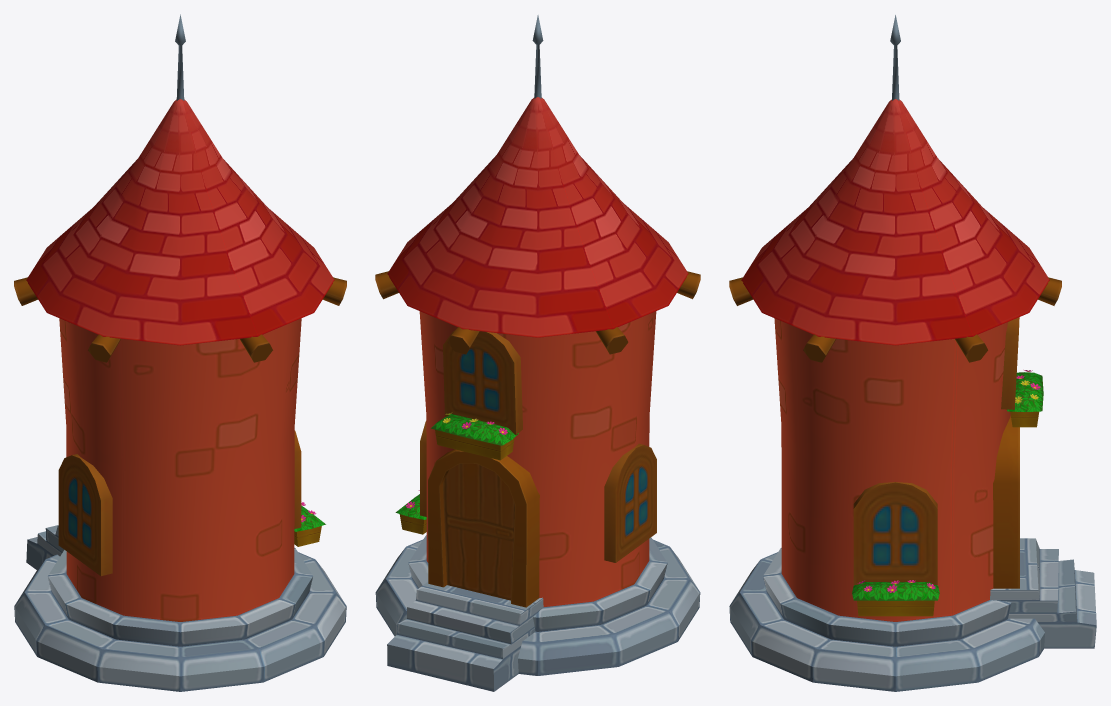
Rendered from HOS0110027.fbx.
3 views of the same model, side by side, from view 1: azimuth 30°, elevation 25°; view 2: azimuth 150°, elevation 25°; view 3: azimuth 270°, elevation 25° (orthographic). The views are drawn at different scales.
Visible parts, largest first — view 1: smHOS0110027; view 2: smHOS0110027; view 3: smHOS0110027.
Boxes of the visible parts, x1,y1,x2,y2 form: smHOS0110027: [14, 14, 346, 691]; smHOS0110027: [375, 15, 700, 691]; smHOS0110027: [729, 15, 1096, 691].
Bounding box in the file's own units: 394 × 795 × 436.
1 material, 1 textured.
